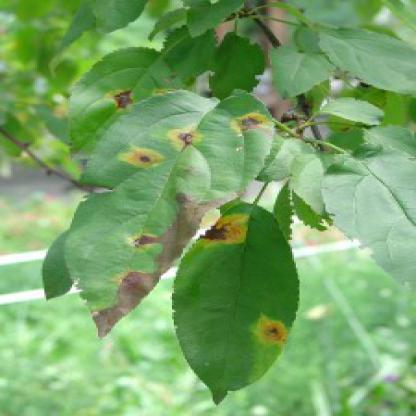Apple Scab Leaf: (70, 82, 259, 348), (163, 198, 307, 409)
